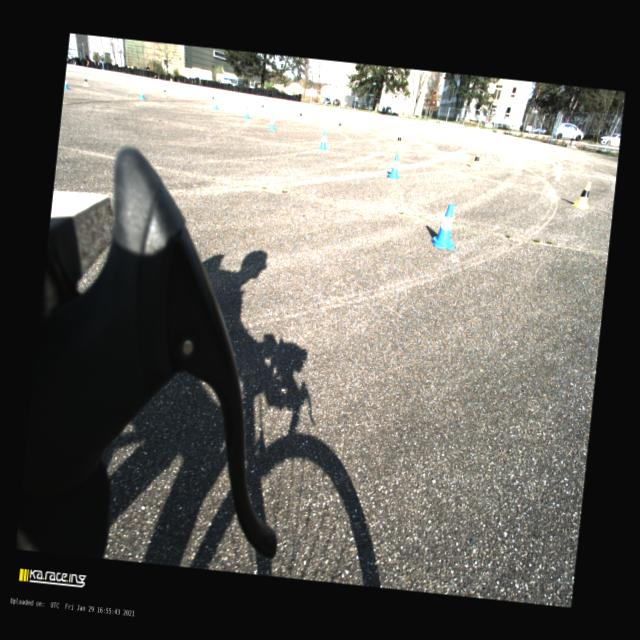blue_cone: (429, 202, 459, 250), (386, 153, 402, 180), (317, 130, 328, 150), (268, 114, 277, 130), (138, 86, 147, 99), (243, 105, 251, 118), (212, 98, 220, 110), (64, 77, 70, 89)
yellow_cone: (571, 180, 591, 209), (470, 152, 480, 170), (395, 130, 403, 148), (336, 118, 343, 132), (82, 75, 90, 87), (160, 86, 168, 98), (298, 109, 304, 122), (260, 101, 266, 112), (210, 92, 215, 104)
